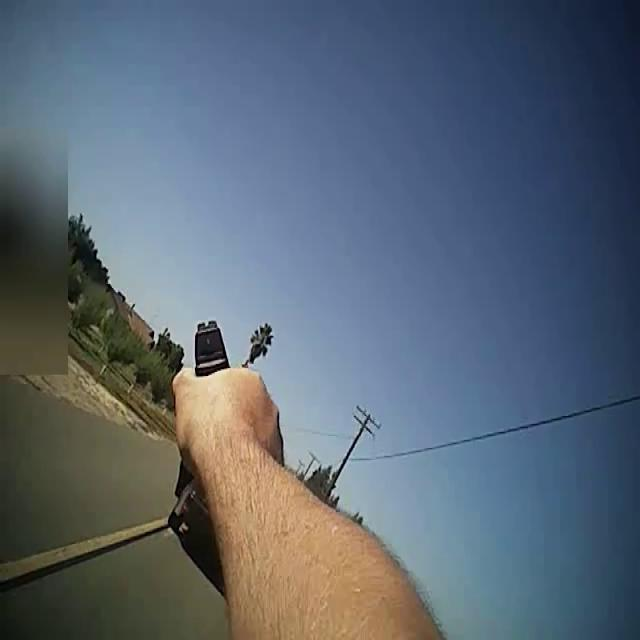gun: (165, 295, 258, 547)
